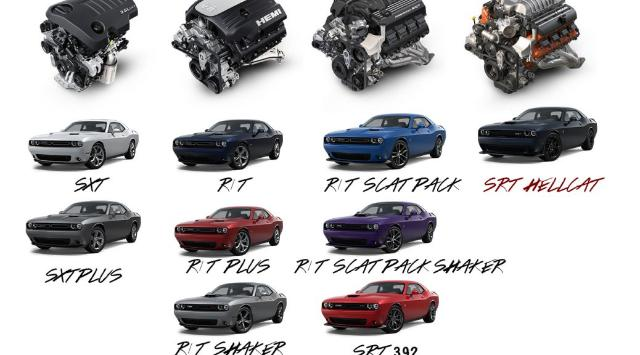dodge: (323, 113, 447, 170), (478, 106, 598, 162), (321, 280, 439, 334), (25, 200, 142, 254), (322, 201, 438, 253), (27, 118, 139, 170), (172, 118, 284, 170), (174, 282, 286, 334), (174, 206, 284, 256)
